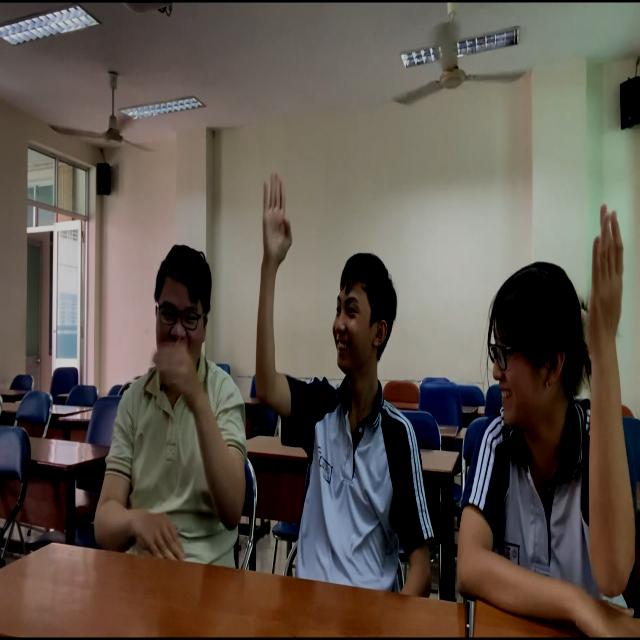raise_hand: (450, 185, 640, 640), (244, 159, 430, 603)
